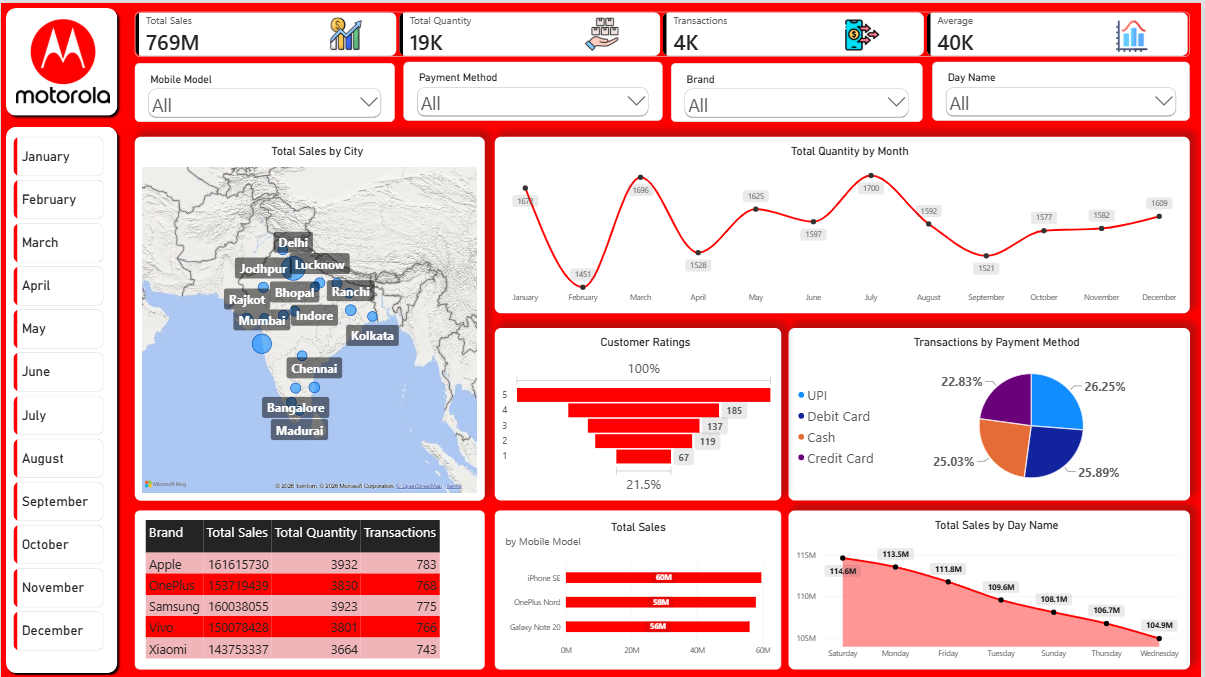

What the dashboard file says about the page in this screenshot:
{"tool":"powerbi","page":{"name":"Dashboard","canvas":[1920,1080],"ordinal":0},"visuals":[{"type":"shape","box":[0,0,194,188],"z":0},{"type":"image","box":[20,26,158,134],"z":1000},{"type":"shape","box":[0,190,194,890],"z":2000},{"type":"advancedSlicerVisual","fields":{"Values":["Sales data.Date.Variation.Date Hierarchy.Month"]},"box":[20,214,144,830],"z":3000},{"type":"cardVisual","fields":{"Data":["Sales data.Total Sales","Sales data.Total Quantity","Sales data.Transactions","Sales data.Average"]},"box":[214,14,1688,72],"z":4000},{"type":"image","box":[514,22,76,54],"z":5000},{"type":"image","box":[934,22,54,56],"z":6000},{"type":"image","box":[1346,24,64,54],"z":7000},{"type":"image","box":[1780,28,58,50],"z":8000},{"type":"map","fields":{"Category":["Sales data.City"],"Size":["Sales data.Total Sales"]},"box":[214,214,560,582],"z":9000},{"type":"lineChart","fields":{"Category":["Sales data.Date.Variation.Date Hierarchy.Month","Sales data.Date.Variation.Date Hierarchy.Day"],"Y":["Sales data.Total Quantity"]},"box":[790,214,1112,282],"z":10000},{"type":"barChart","fields":{"Category":["Sales data.Mobile Model"],"Y":["Sales data.Total Sales"]},"box":[790,812,458,254],"z":10001},{"type":"pieChart","fields":{"Category":["Sales data.Payment Method"],"Y":["Sales data.Transactions"]},"box":[1260,520,642,276],"z":10002},{"type":"funnel","title":" Customer Ratings","fields":{"Category":["Sales data.Customer Ratings"],"Y":["CountNonNull(Sales data.Customer Ratings)"]},"box":[790,520,458,276],"z":10003},{"type":"areaChart","fields":{"Category":["Sales data.Day Name"],"Y":["Sales data.Total Sales"]},"box":[1260,812,642,254],"z":10004},{"type":"tableEx","fields":{"Values":["Sales data.Brand","Sales data.Total Sales","Sales data.Total Quantity","Sales data.Transactions"]},"box":[214,812,560,254],"z":10005},{"type":"slicer","fields":{"Values":["Sales data.Mobile Model"]},"box":[214,96,416,94],"z":10006},{"type":"slicer","fields":{"Values":["Sales data.Payment Method"]},"box":[644,94,414,94],"z":10007},{"type":"slicer","fields":{"Values":["Sales data.Brand"]},"box":[1072,96,402,94],"z":10008},{"type":"slicer","fields":{"Values":["Sales data.Day Name"]},"box":[1490,94,412,94],"z":10009}]}

Visuals, with their boxes in screenshot pixels (x1, y1, x2, y2), scaled from the page's 1920x1080 canvas onto the 1205x677 screenshot:
shape: x1=0 y1=0 x2=122 y2=118
image: x1=13 y1=16 x2=112 y2=100
shape: x1=0 y1=119 x2=122 y2=676
advancedSlicerVisual - Sales data.Date.Variation.Date Hierarchy.Month: x1=13 y1=134 x2=103 y2=654
cardVisual - Sales data.Total Sales x Sales data.Total Quantity: x1=134 y1=9 x2=1194 y2=54
image: x1=323 y1=14 x2=370 y2=48
image: x1=586 y1=14 x2=620 y2=49
image: x1=845 y1=15 x2=885 y2=49
image: x1=1117 y1=18 x2=1154 y2=49
map - Sales data.City x Sales data.Total Sales: x1=134 y1=134 x2=486 y2=499
lineChart - Sales data.Date.Variation.Date Hierarchy.Month x Sales data.Date.Variation.Date Hierarchy.Day: x1=496 y1=134 x2=1194 y2=311
barChart - Sales data.Mobile Model x Sales data.Total Sales: x1=496 y1=509 x2=783 y2=668
pieChart - Sales data.Payment Method x Sales data.Transactions: x1=791 y1=326 x2=1194 y2=499
" Customer Ratings" funnel: x1=496 y1=326 x2=783 y2=499
areaChart - Sales data.Day Name x Sales data.Total Sales: x1=791 y1=509 x2=1194 y2=668
tableEx - Sales data.Brand x Sales data.Total Sales: x1=134 y1=509 x2=486 y2=668
slicer - Sales data.Mobile Model: x1=134 y1=60 x2=395 y2=119
slicer - Sales data.Payment Method: x1=404 y1=59 x2=664 y2=118
slicer - Sales data.Brand: x1=673 y1=60 x2=925 y2=119
slicer - Sales data.Day Name: x1=935 y1=59 x2=1194 y2=118
